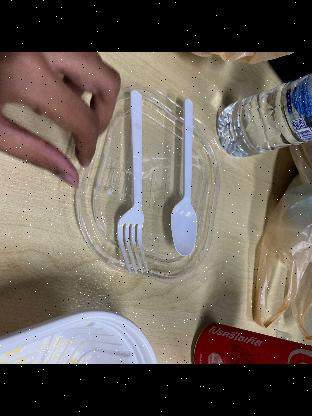Others: (118, 82, 146, 278), (166, 86, 197, 260)
